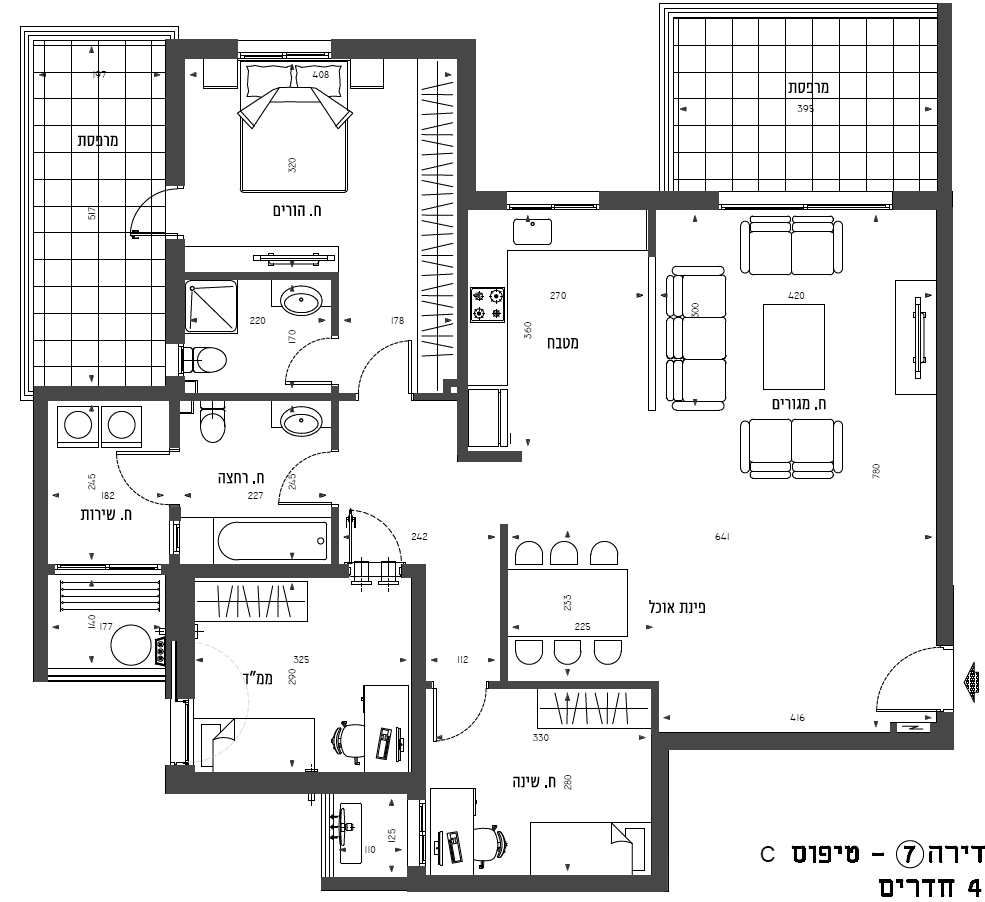wall: (936, 4, 953, 645), (650, 732, 954, 750), (408, 875, 669, 893), (33, 387, 48, 679), (411, 565, 426, 801), (457, 39, 476, 211), (165, 40, 186, 187), (456, 211, 468, 462), (330, 39, 476, 59), (651, 731, 669, 892), (599, 190, 720, 210), (164, 240, 185, 345), (165, 40, 238, 59), (892, 190, 952, 211)
